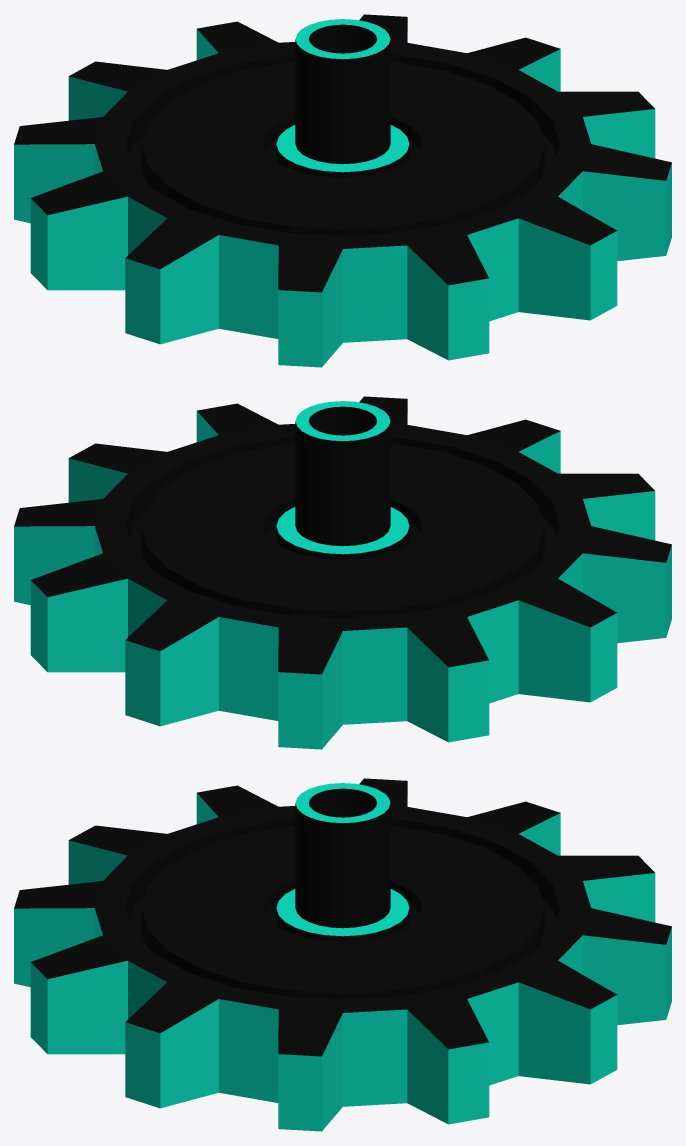
File: D1.2GearV1.fbx
3 renders of one model, top to bottom at view 1: azimuth 30°, elevation 25°; view 2: azimuth 150°, elevation 25°; view 3: azimuth 270°, elevation 25°, orthographic.
Parts seen in each view (by area): view 1: D1_2GearV1; view 2: D1_2GearV1; view 3: D1_2GearV1.
Boxes of the visible parts, bbox=[...] form: D1_2GearV1: bbox=[14, 14, 671, 367]; D1_2GearV1: bbox=[14, 396, 671, 749]; D1_2GearV1: bbox=[14, 778, 671, 1131].
Size of the model in its own units: 3.18 by 1.06 by 3.18.
